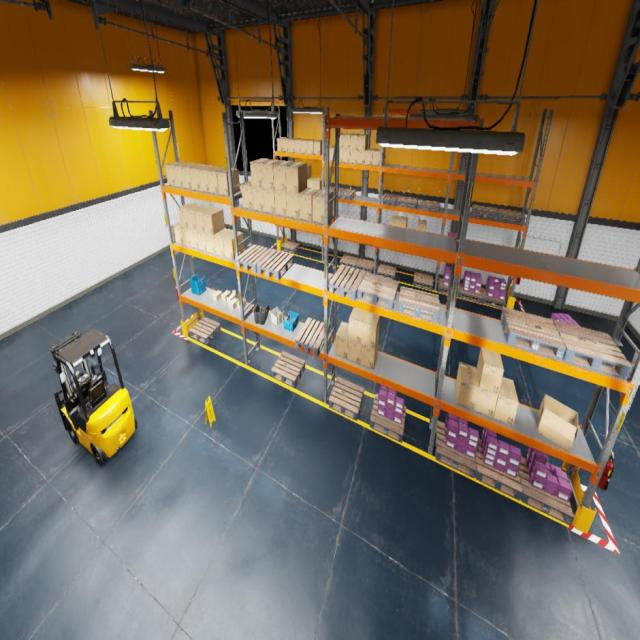box: (537, 394, 578, 452), (476, 347, 504, 394), (494, 376, 518, 426), (474, 368, 498, 418), (456, 362, 478, 410), (361, 311, 380, 349), (312, 190, 333, 223), (360, 334, 379, 370), (285, 162, 307, 193), (299, 188, 319, 221), (261, 159, 282, 190), (217, 168, 240, 196), (273, 161, 294, 191), (250, 158, 271, 188), (349, 307, 366, 344), (203, 208, 225, 235), (223, 232, 244, 260), (198, 165, 219, 192), (181, 163, 202, 190), (214, 228, 233, 257), (190, 164, 210, 191), (178, 202, 198, 228), (207, 167, 226, 194), (173, 163, 194, 187), (195, 206, 214, 232), (186, 204, 205, 230), (165, 161, 184, 186), (336, 321, 348, 359), (241, 180, 253, 209), (274, 190, 287, 216), (348, 340, 361, 364), (287, 192, 299, 218), (263, 189, 275, 213), (252, 186, 263, 212), (205, 233, 215, 254), (197, 231, 207, 251), (188, 229, 198, 249), (174, 222, 183, 244), (181, 227, 191, 246), (364, 148, 374, 165), (358, 134, 368, 150), (372, 148, 380, 166), (307, 140, 317, 154), (301, 139, 310, 154), (289, 138, 298, 153), (283, 137, 292, 152), (351, 134, 360, 149), (277, 138, 287, 151), (295, 139, 304, 153), (343, 134, 352, 148), (314, 140, 322, 155), (227, 290, 236, 303), (350, 150, 358, 164), (357, 150, 365, 164), (342, 149, 350, 163), (228, 298, 238, 309), (390, 215, 400, 226), (307, 177, 317, 188), (418, 219, 427, 231), (398, 216, 407, 228), (212, 291, 222, 301), (237, 298, 246, 308), (221, 291, 230, 301), (340, 133, 346, 148), (314, 178, 322, 189), (330, 146, 335, 161), (339, 149, 343, 162), (308, 165, 311, 179)
forklift: (50, 330, 137, 465)
pallets: (553, 320, 632, 379), (518, 457, 573, 524), (500, 307, 566, 360), (475, 438, 522, 501), (436, 421, 476, 477), (370, 393, 406, 442), (398, 286, 439, 324), (329, 377, 364, 420), (358, 273, 398, 310), (328, 264, 366, 300), (295, 318, 329, 356), (271, 352, 305, 388), (256, 249, 294, 280), (235, 244, 272, 273), (189, 316, 221, 344), (481, 288, 506, 308), (496, 208, 526, 224), (459, 283, 482, 303), (438, 278, 460, 297), (472, 204, 498, 220), (413, 272, 434, 291), (377, 263, 396, 280), (340, 254, 359, 270), (397, 196, 419, 209), (355, 258, 374, 273), (418, 200, 441, 212), (281, 240, 300, 253), (380, 194, 400, 206), (338, 188, 356, 200), (329, 186, 342, 196), (329, 223, 331, 227)
